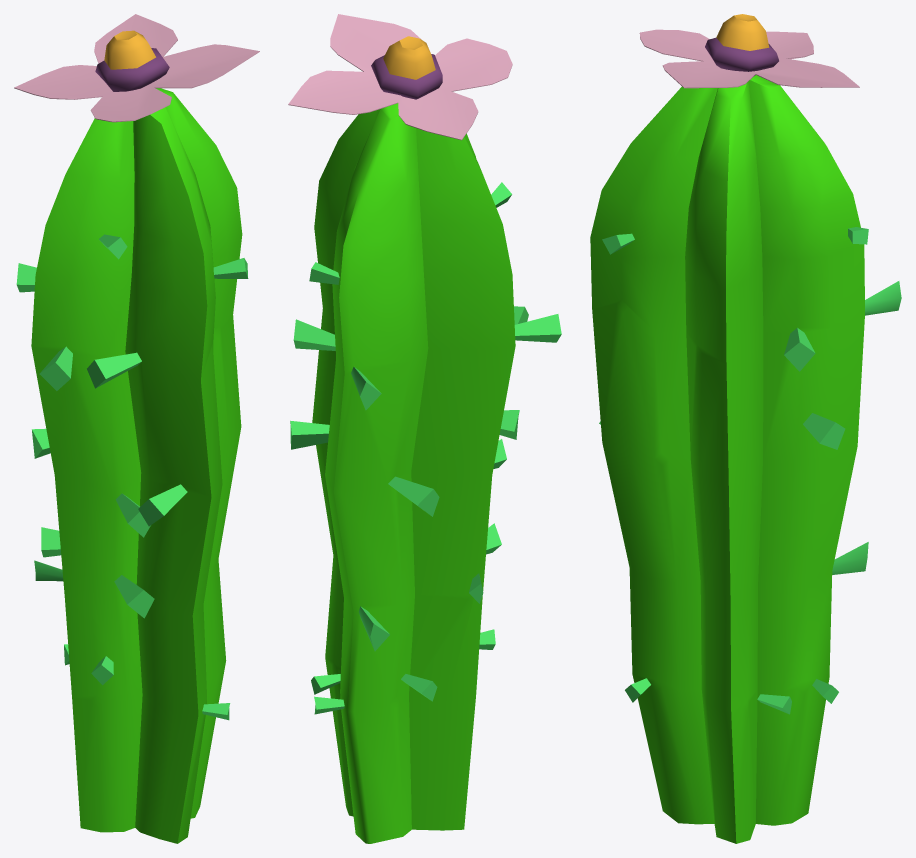
Rendered from long_cactus_flower.fbx.
3 renders of one model, left to right at view 1: azimuth 30°, elevation 25°; view 2: azimuth 150°, elevation 25°; view 3: azimuth 270°, elevation 25°, orthographic.
Parts seen in each view (by area): view 1: long_cactus02; view 2: long_cactus02; view 3: long_cactus02.
Boxes of the visible parts, x1,y1,x2,y2 form: long_cactus02: (14,14,259,843); long_cactus02: (288,14,561,843); long_cactus02: (590,14,901,843).
Bounding box in the file's own units: 36.78 × 123 × 43.52.
